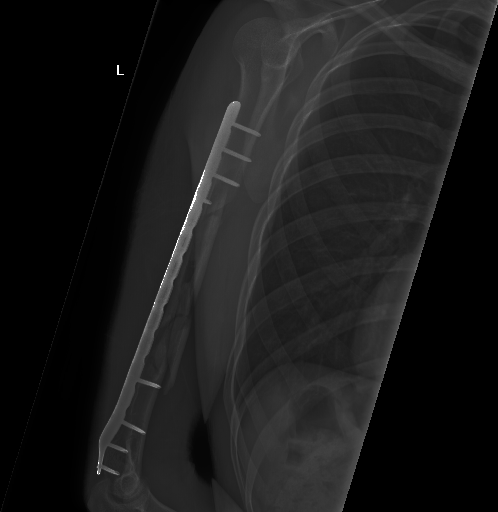implant: (97, 365, 168, 480), (197, 98, 265, 208)
